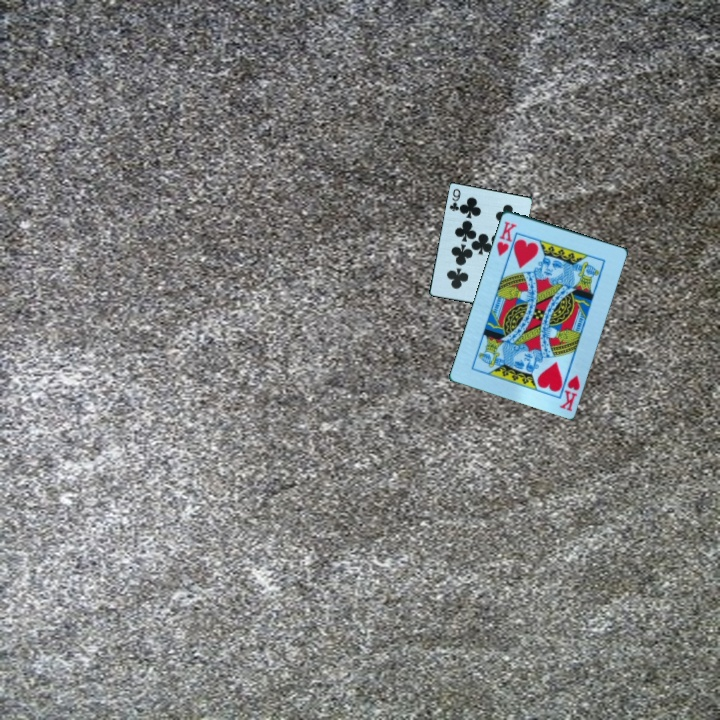9c: (446, 185, 463, 214)
Kh: (555, 371, 583, 414), (493, 217, 520, 259)
